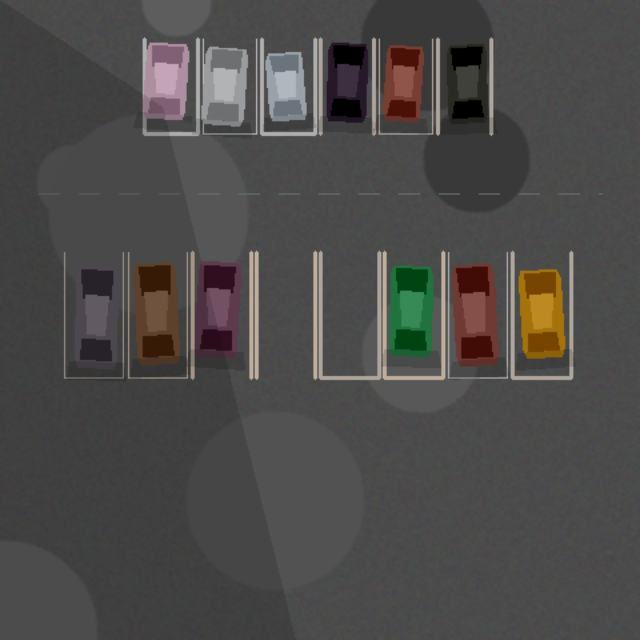space-empty: (256, 252, 315, 377), (320, 252, 379, 377)
space-occupied: (64, 252, 123, 377), (128, 252, 187, 377), (192, 252, 251, 377), (384, 252, 443, 377), (448, 252, 507, 377), (512, 252, 571, 377), (261, 39, 315, 133), (437, 39, 491, 133), (144, 39, 197, 133), (203, 39, 256, 133), (320, 39, 373, 133), (379, 39, 432, 133)
